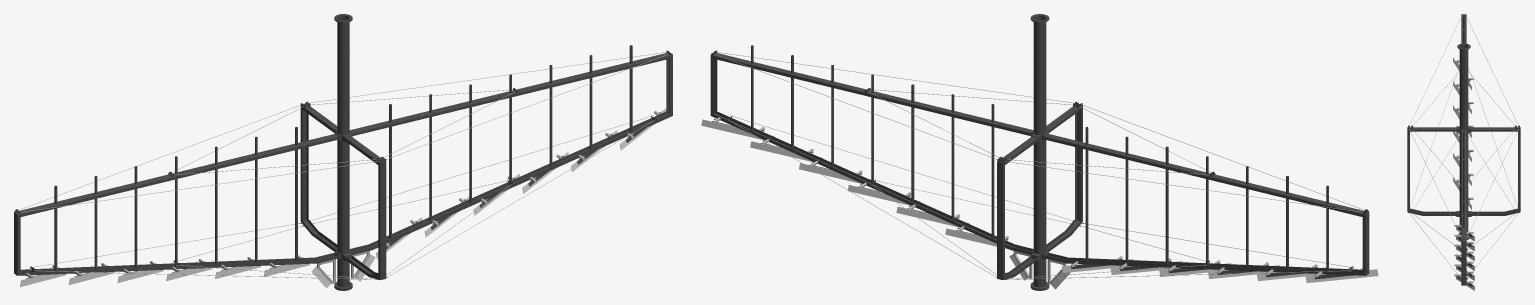
Rendered from ESPESADOR DE LODOS.glb.
The picture shows the model from 3 angles, left to right: view 1: azimuth 30°, elevation 25°; view 2: azimuth 150°, elevation 25°; view 3: azimuth 270°, elevation 25°; orthographic projection. The views are drawn at different scales.
Parts seen in each view (by area): view 1: Sólido2 (×11), Solid1; view 2: Sólido2 (×12), Solid1 (×7); view 3: Sólido2 (×10), Solid1 (×7).
Boxes of the visible parts, left/top/right/bottom form: Sólido2 (×11): left=14, top=53, right=672, bottom=280; Solid1: left=337, top=15, right=349, bottom=263; Sólido2 (×12): left=710, top=53, right=1369, bottom=279; Solid1 (×7): left=911, top=15, right=1168, bottom=264; Sólido2 (×10): left=1407, top=15, right=1520, bottom=285; Solid1 (×7): left=1409, top=15, right=1518, bottom=238.
Bounding box in the file's own units: 16.67 × 6.47 × 3.48.
Materials: 4 (1 with a texture image).
